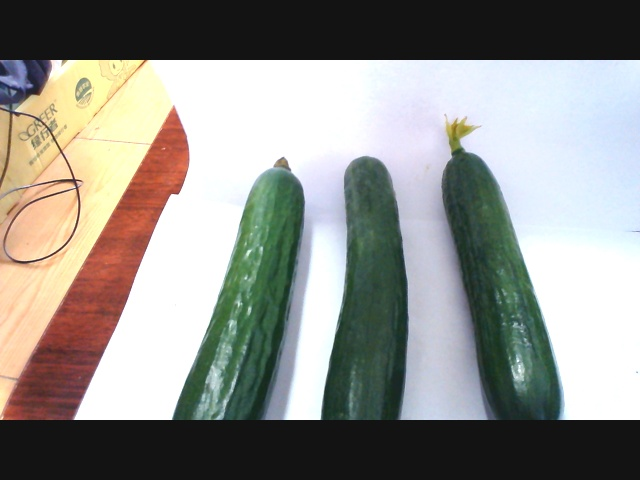cucumber: (435, 130, 574, 419), (178, 151, 307, 418), (308, 153, 424, 418)
